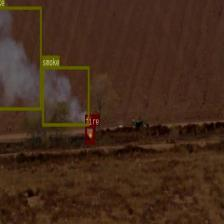fire: (85, 125, 94, 143)
smoke: (0, 6, 41, 109), (42, 66, 89, 125)
